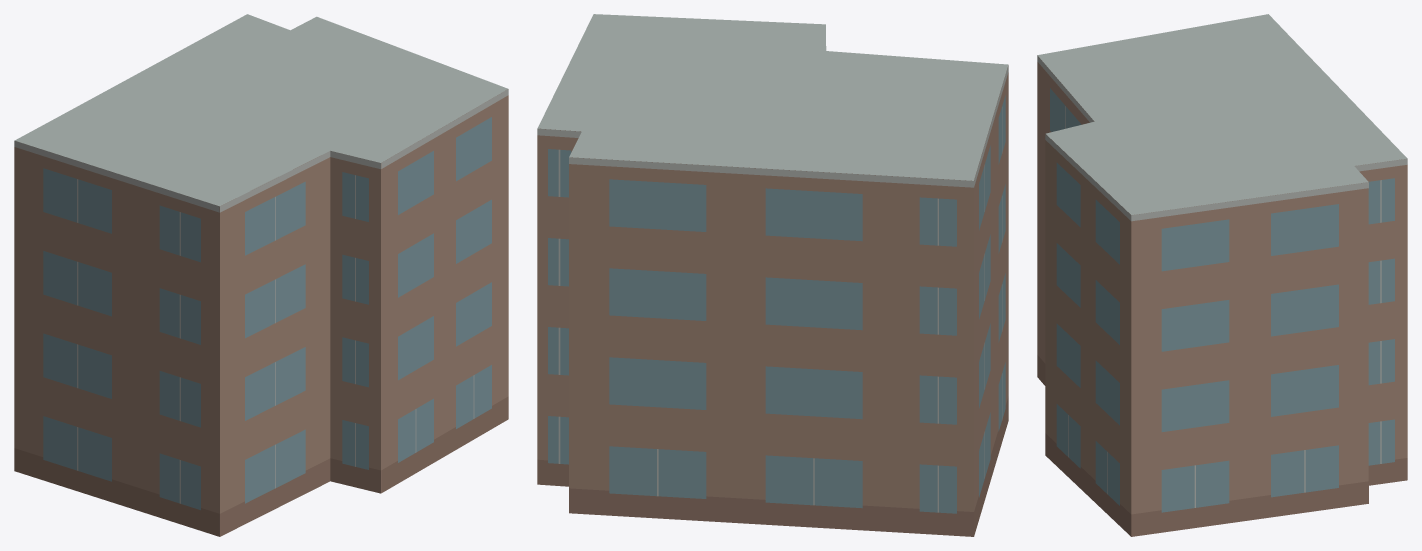
The model's file is survey-upis-33039012.glb.
3 views of the same model, side by side, from view 1: azimuth 30°, elevation 25°; view 2: azimuth 150°, elevation 25°; view 3: azimuth 270°, elevation 25° (orthographic). The views are drawn at different scales.
Visible parts, largest first — view 1: survey-upis-33039012.tmp; view 2: survey-upis-33039012.tmp; view 3: survey-upis-33039012.tmp.
Boxes of the visible parts, left/top/right/bottom form: survey-upis-33039012.tmp: left=14, top=14, right=508, bottom=536; survey-upis-33039012.tmp: left=537, top=14, right=1008, bottom=536; survey-upis-33039012.tmp: left=1037, top=14, right=1407, bottom=536.
Size of the model in its own units: 17.18 by 12.8 by 13.37.
